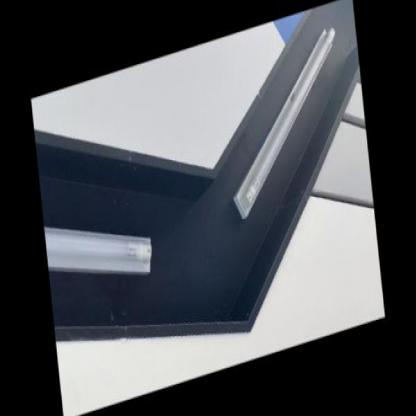light_off: (212, 15, 357, 232), (41, 153, 162, 324)
